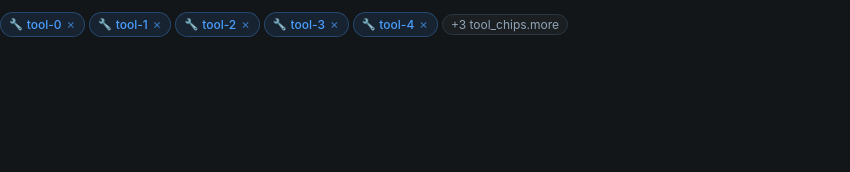
Scenario: ToolChips › +N more 버튼 클릭 시 전체 목록이 보인다
Click the button "+3 tool_chips.more": (505, 25) [442,14,568,35]
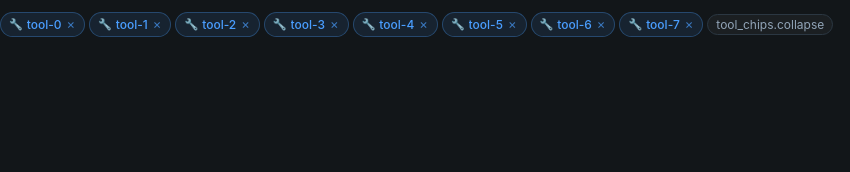
Now the text "tool-5" is shown, box [469,15,503,34]
Now the text "tool-7" is shown, box [646,15,680,34]
